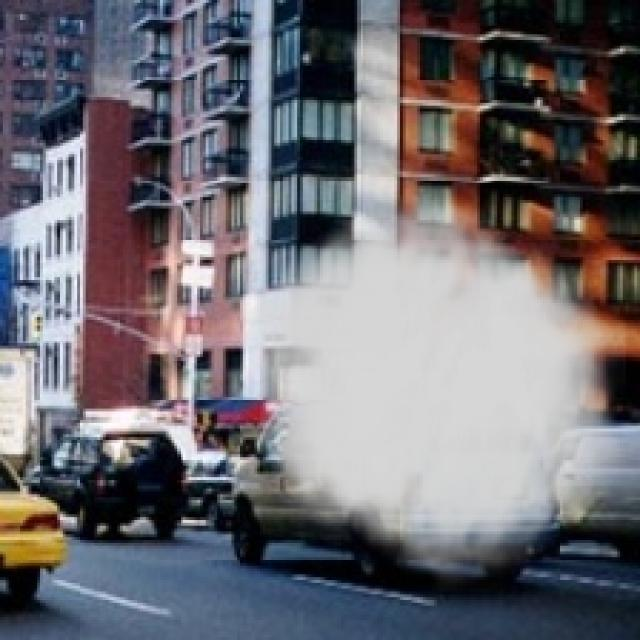smoke: (231, 183, 626, 591)
